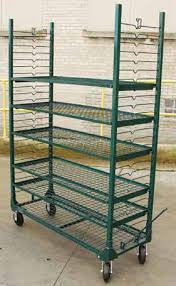Carts: (7, 4, 165, 281)
